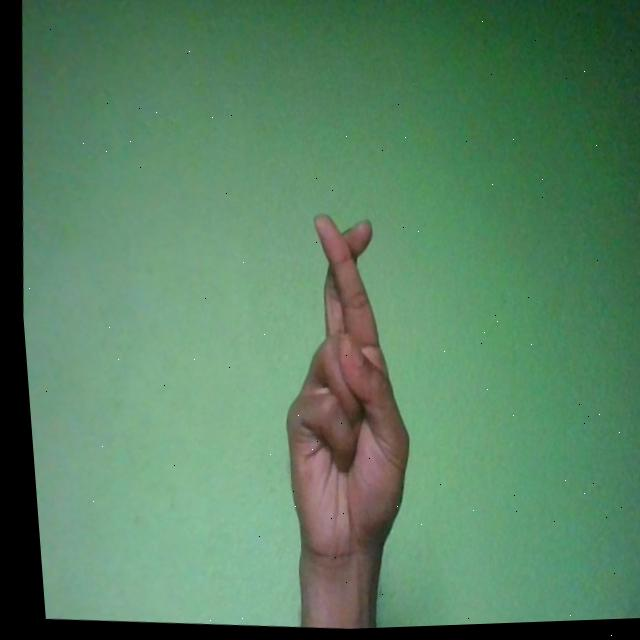Good Luck: (256, 208, 427, 577)
